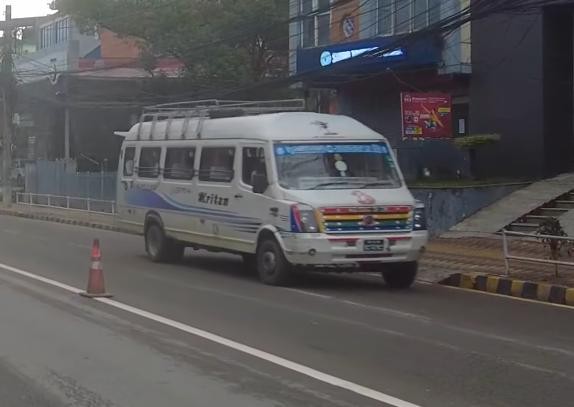micro_bus: (109, 98, 429, 292)
